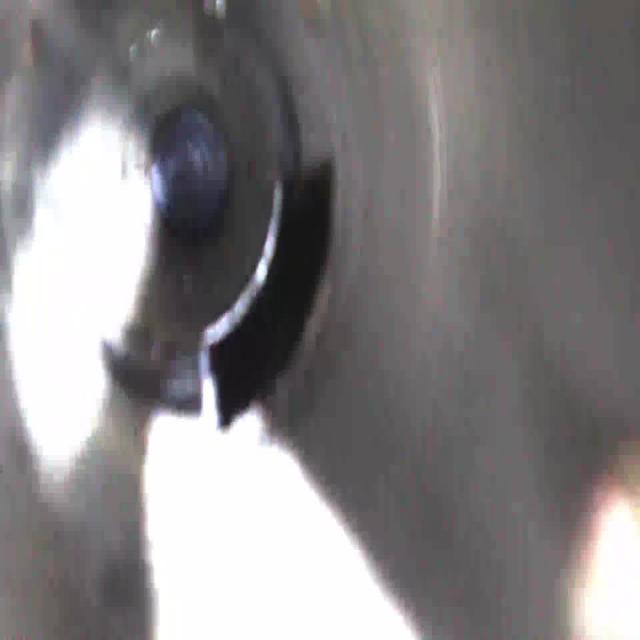hole: (200, 132, 350, 446)
